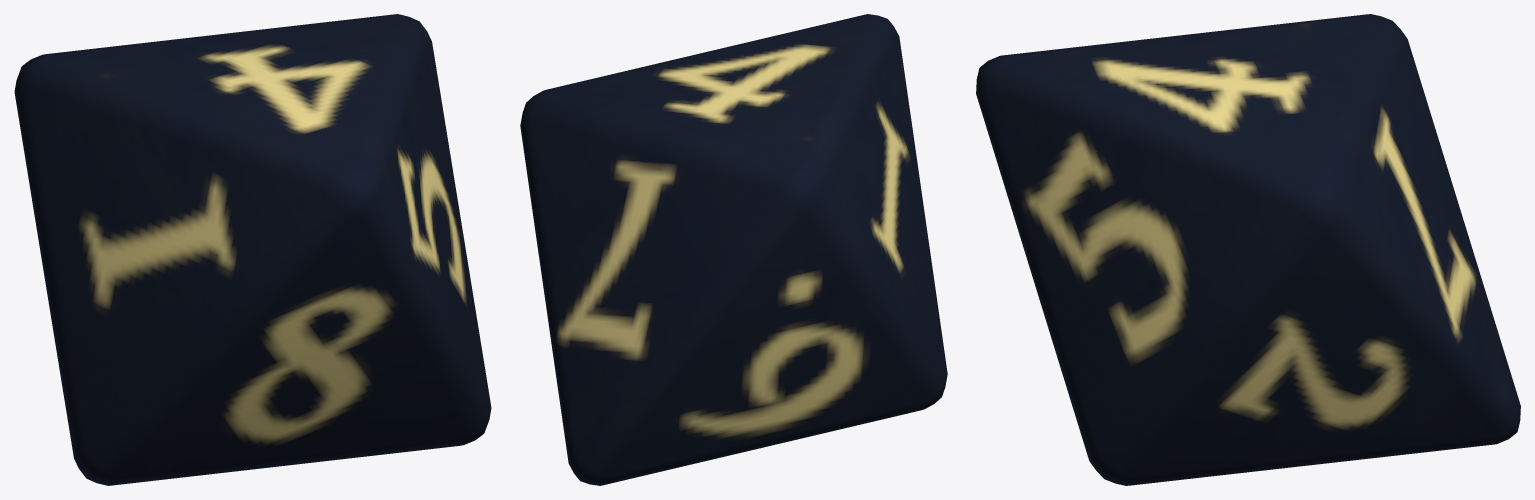
3 views of the same model, side by side, from view 1: azimuth 30°, elevation 25°; view 2: azimuth 150°, elevation 25°; view 3: azimuth 270°, elevation 25° (orthographic). The views are drawn at different scales.
Visible parts, largest first — view 1: D8_LP; view 2: D8_LP; view 3: D8_LP.
Boxes of the visible parts, left/top/right/bottom form: D8_LP: left=14, top=14, right=491, bottom=485; D8_LP: left=520, top=14, right=947, bottom=485; D8_LP: left=976, top=14, right=1520, bottom=485.
Bounding box in the file's own units: 0.0105 × 0.00901 × 0.0126.
1 material, 1 textured.
